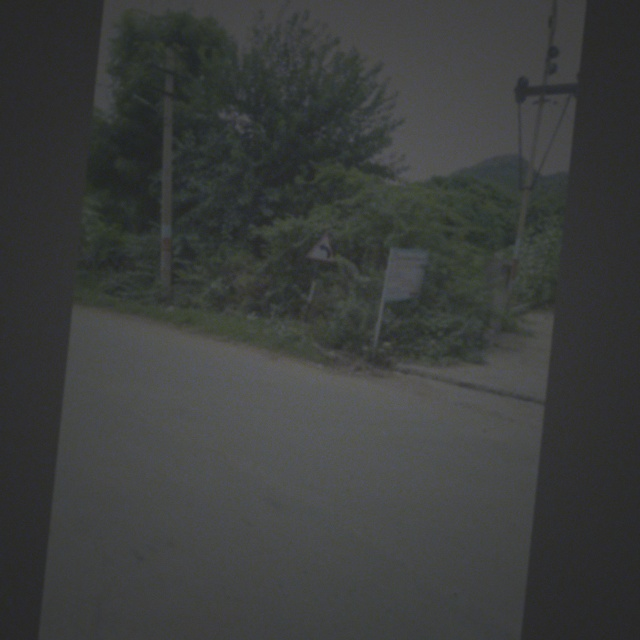Left_Hand_Curve: (306, 226, 342, 266)
